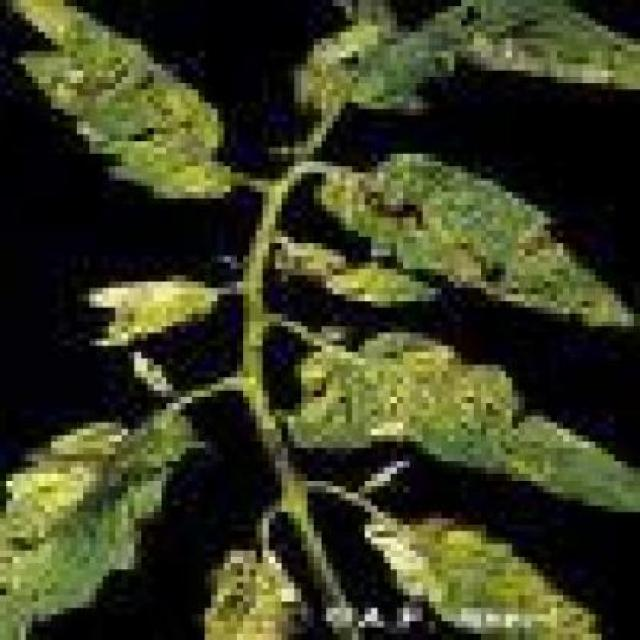Septoria leaf spot: (276, 327, 635, 526), (1, 392, 212, 635), (333, 161, 629, 333), (309, 1, 635, 135), (19, 1, 237, 193), (374, 513, 623, 635), (78, 277, 232, 348), (289, 244, 424, 321)
